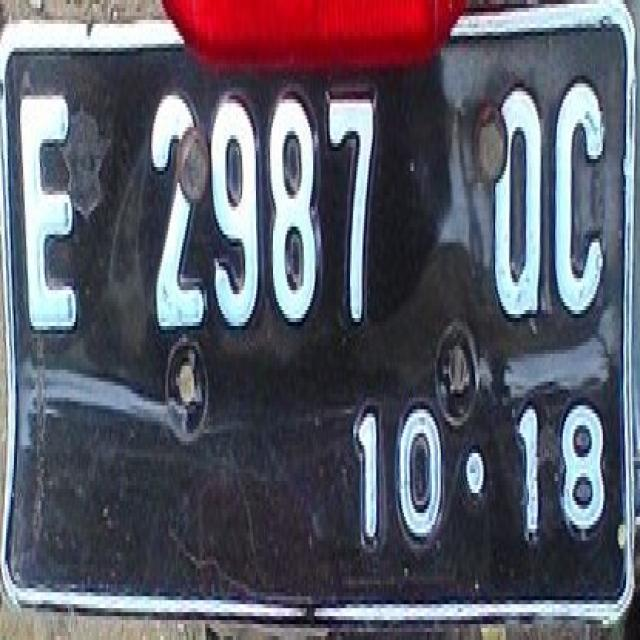plate: (2, 16, 630, 608)
